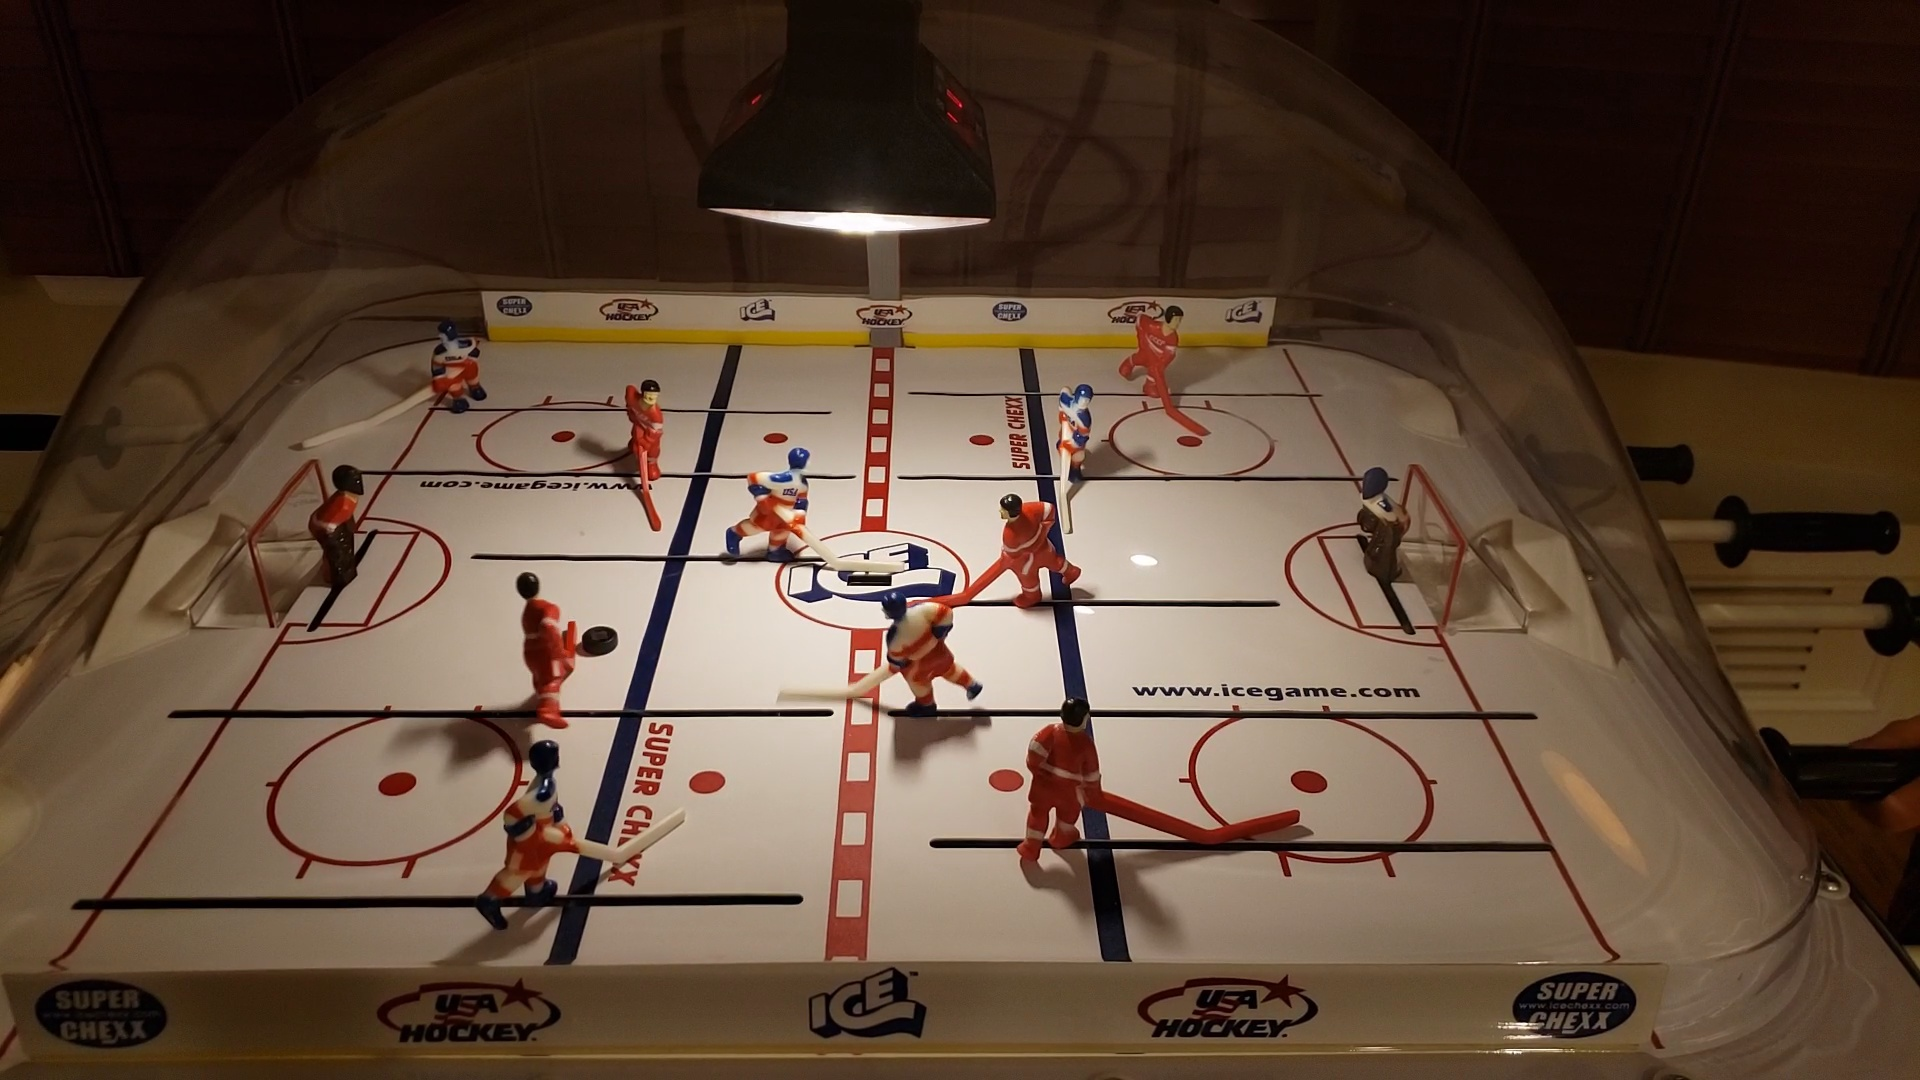puck: (582, 622, 618, 658)
